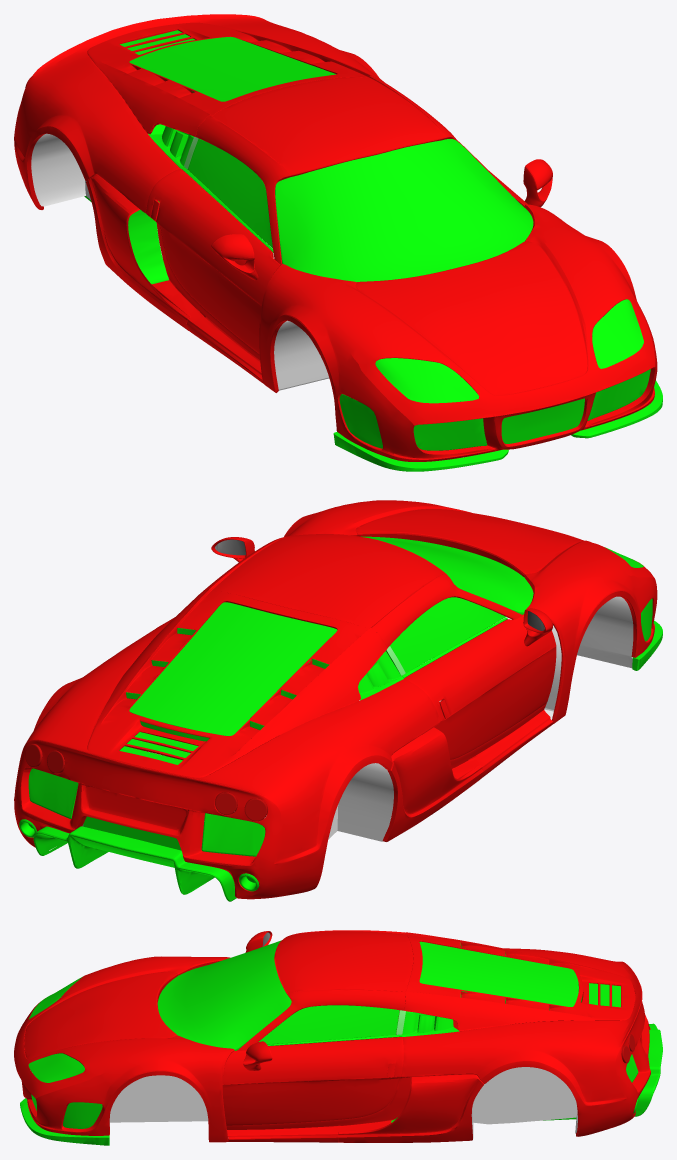
Rendered from Noble_M600_Final.fbx.
3 views of the same model, one above another, from view 1: azimuth 30°, elevation 25°; view 2: azimuth 150°, elevation 25°; view 3: azimuth 270°, elevation 25° (orthographic). The views are drawn at different scales.
Visible parts, largest first — view 1: Noble_M600_Final; view 2: Noble_M600_Final; view 3: Noble_M600_Final.
Boxes of the visible parts, x1=… form: Noble_M600_Final: x1=14, y1=14, x2=662, y2=471; Noble_M600_Final: x1=14, y1=500, x2=662, y2=901; Noble_M600_Final: x1=14, y1=930, x2=662, y2=1145.
Bounding box in the file's own units: 116 × 60.1 × 256.
